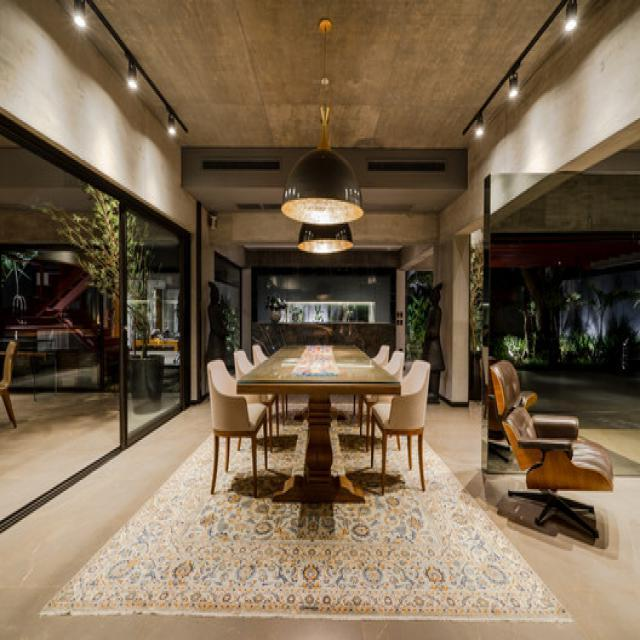couch: (490, 360, 614, 544)
